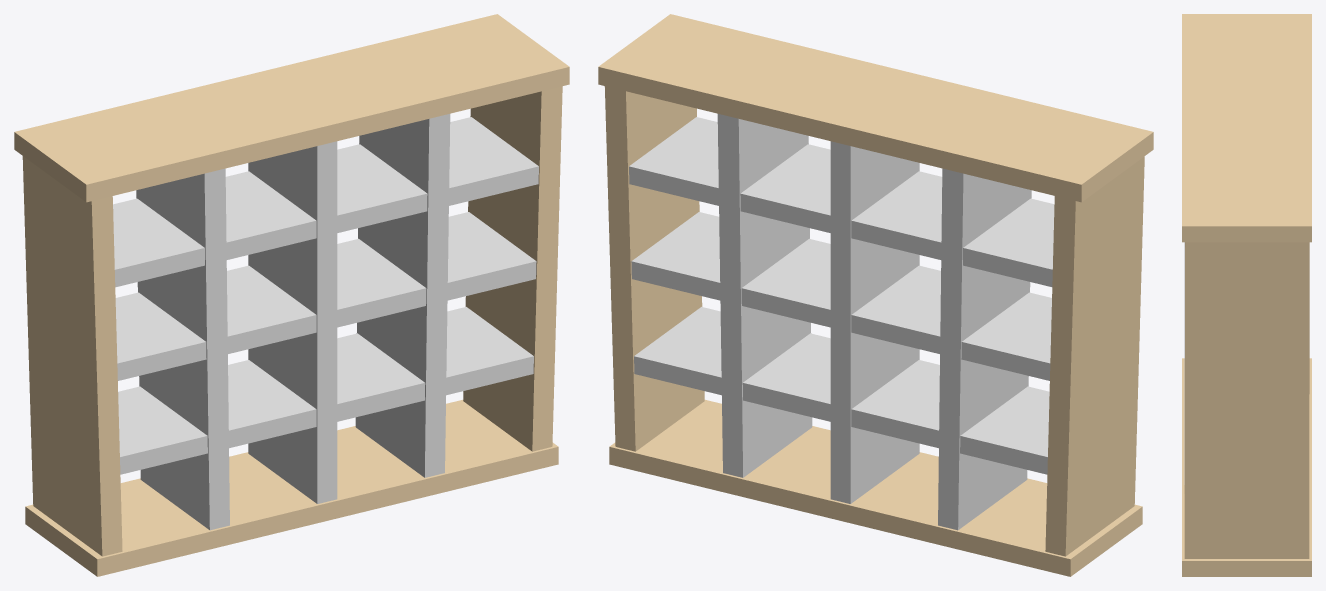
Rendered from Rack.fbx.
3 views of the same model, side by side, from view 1: azimuth 30°, elevation 25°; view 2: azimuth 150°, elevation 25°; view 3: azimuth 270°, elevation 25° (orthographic). The views are drawn at different scales.
Parts seen in each view (by area): view 1: Rock; view 2: Rock; view 3: Rock.
Boxes of the visible parts, x1,y1,x2,y2 form: Rock: [14, 14, 569, 576]; Rock: [598, 14, 1153, 576]; Rock: [1182, 14, 1311, 576].
Size of the model in its own units: 518 by 405 by 134.
